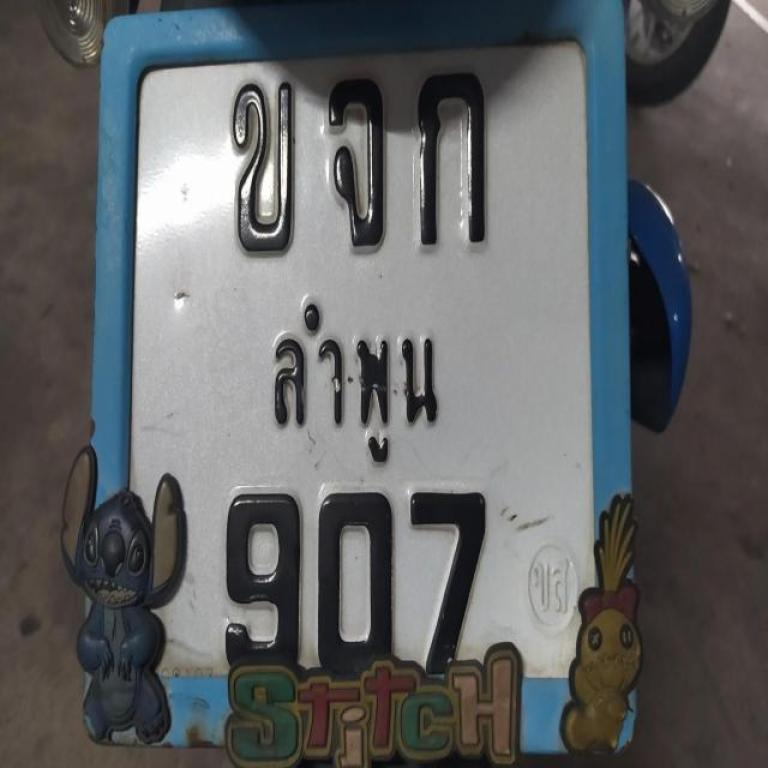license plate: (94, 0, 645, 768)
